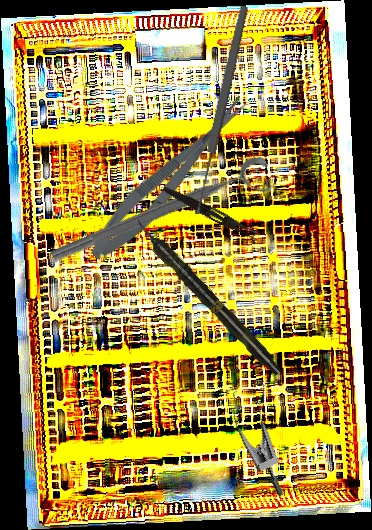Dressing Forceps: (160, 185, 262, 241)
Fixation Ring: (47, 153, 278, 280)
Handpiece: (130, 214, 286, 380)
Micro Scissor: (80, 89, 260, 269)
Speculum: (207, 370, 325, 499)
Surgical Spoon: (190, 4, 251, 216)
